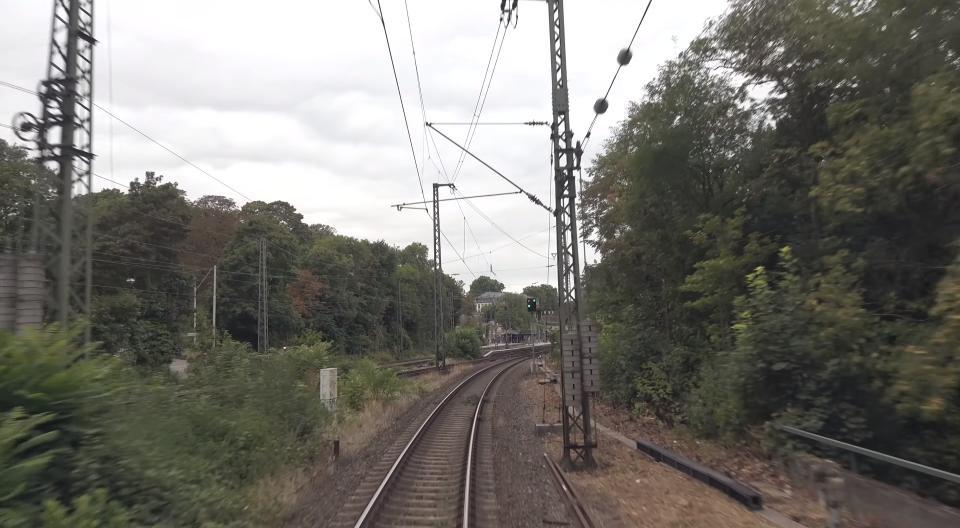Plant: (462, 394, 480, 406), (483, 396, 499, 404), (477, 415, 491, 422)
